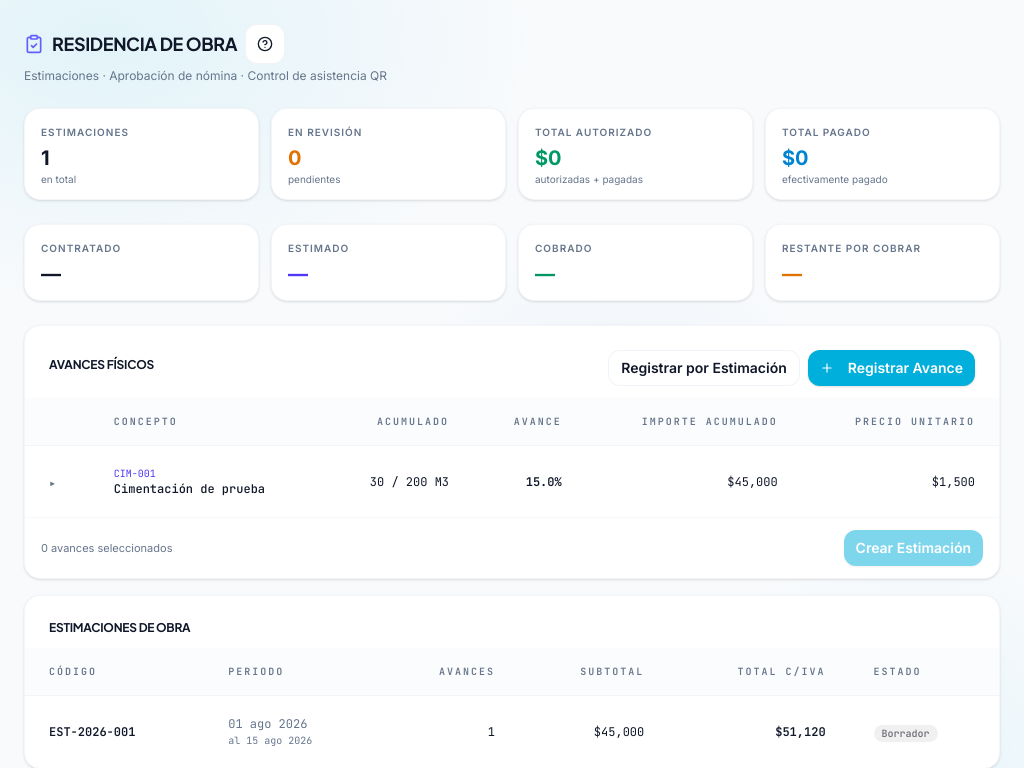
Test: ResidenciaView — confirmación de proyecto activo al registrar Avance Físico › el panel de alta muestra el proyecto activo en su subtítulo
expect the text "EST-2026-001" is shown: met, box [25,696,204,767]
Click the button "Registrar Avance" at (891, 368), box [808,350,975,386]
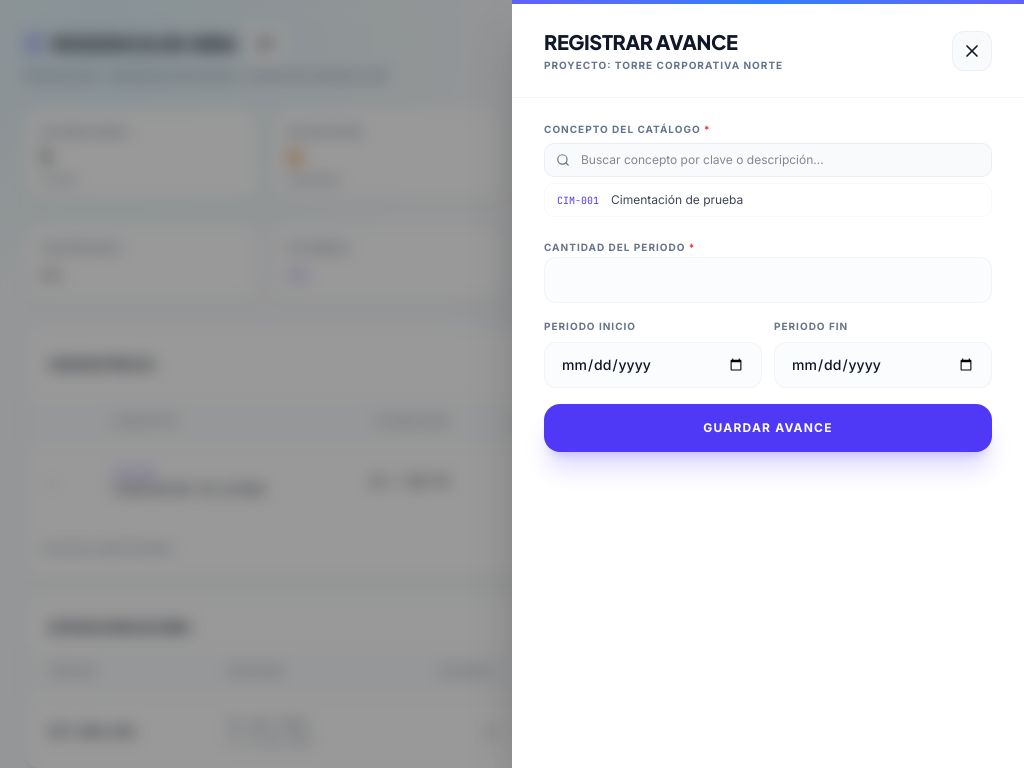
expect the text "Proyecto: Torre Corporativa Norte" is shown: met, box [544,58,783,73]
